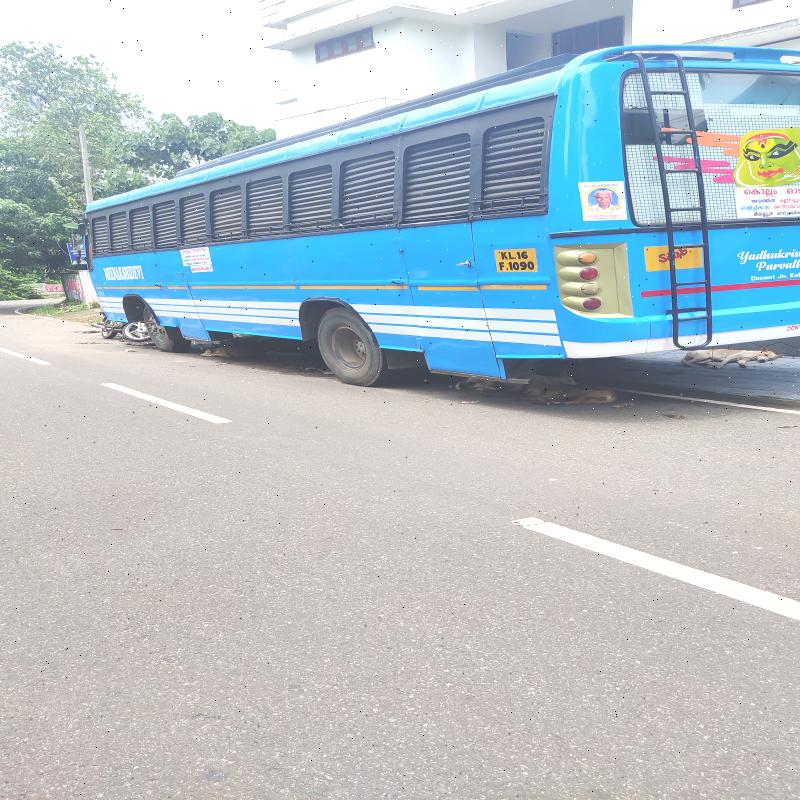bus: (43, 45, 800, 372)
